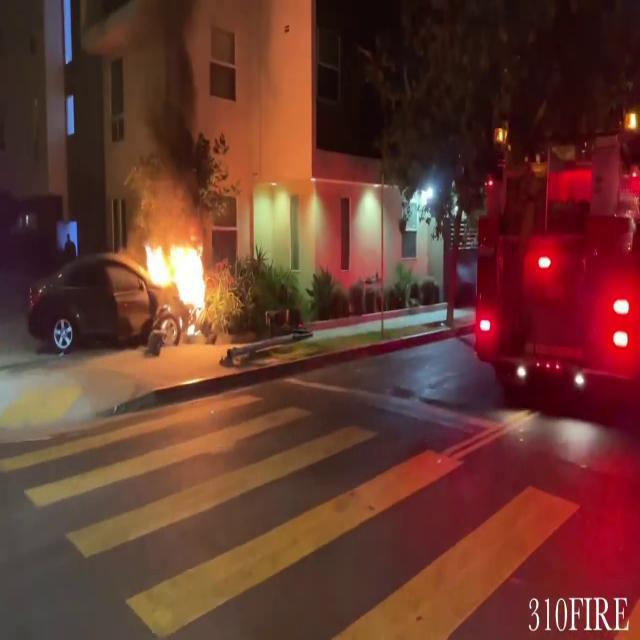Fire: (136, 227, 216, 332)
Smoke: (117, 0, 219, 216)
